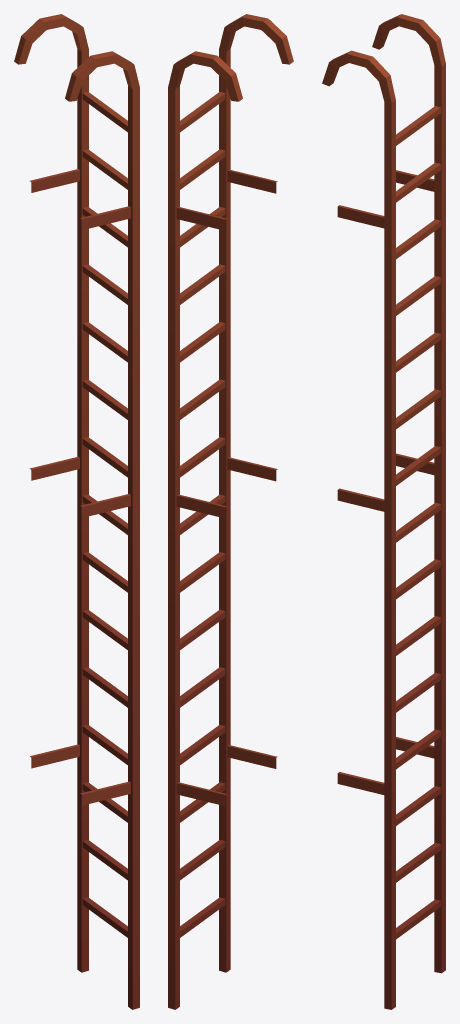
Rendered from ladder_steel_mounted_1.glb.
3 views of the same model, side by side, from view 1: azimuth 30°, elevation 25°; view 2: azimuth 150°, elevation 25°; view 3: azimuth 330°, elevation 25° (orthographic).
Parts seen in each view (by area): view 1: ladder_steel_mounted_1; view 2: ladder_steel_mounted_1; view 3: ladder_steel_mounted_1.
Part boxes in pixels (x1,y1,x2,y2): ladder_steel_mounted_1: (14,14,139,1009); ladder_steel_mounted_1: (168,14,293,1009); ladder_steel_mounted_1: (322,14,445,1009).
Bounding box in the file's own units: 0.6439 × 8.34 × 0.882.
Materials: 1 (1 with a texture image).
